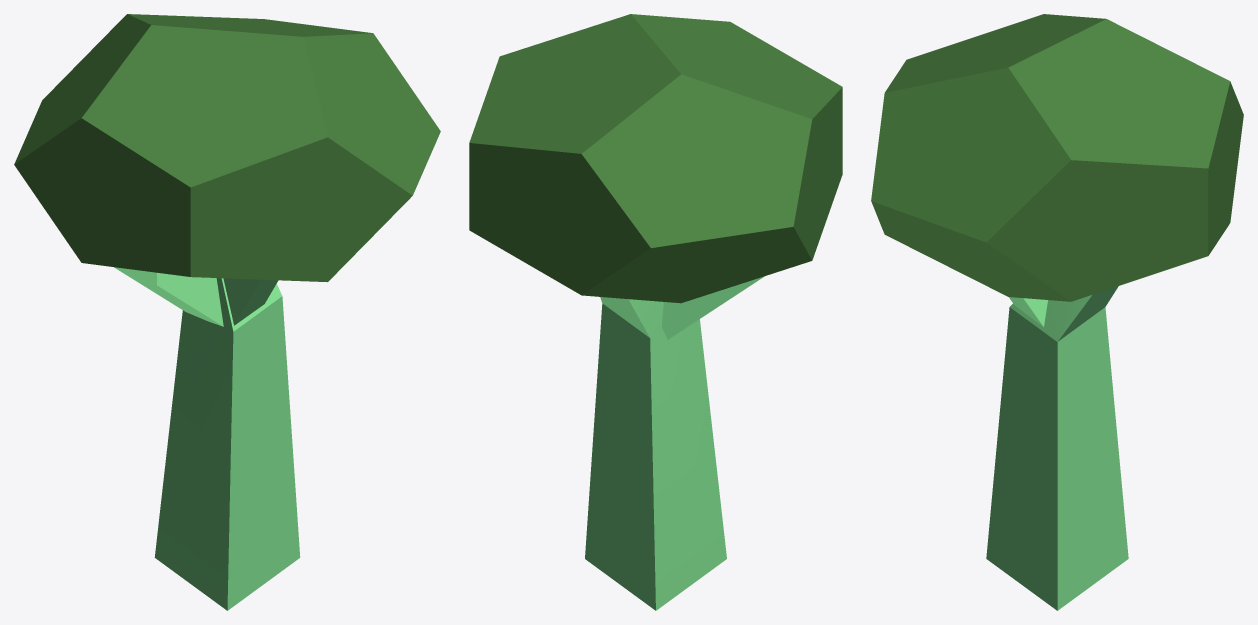
The model's file is 07_broccoli.fbx.
3 renders of one model, left to right at view 1: azimuth 30°, elevation 25°; view 2: azimuth 150°, elevation 25°; view 3: azimuth 270°, elevation 25°, orthographic. The views are drawn at different scales.
Visible parts, largest first — view 1: pPlatonic2; view 2: pPlatonic2; view 3: pPlatonic2.
Boxes of the visible parts, <box> form: pPlatonic2: <box>14,14,440,610</box>; pPlatonic2: <box>469,14,842,610</box>; pPlatonic2: <box>871,14,1243,610</box>.
Bounding box in the file's own units: 1.46 × 2.15 × 1.36.
